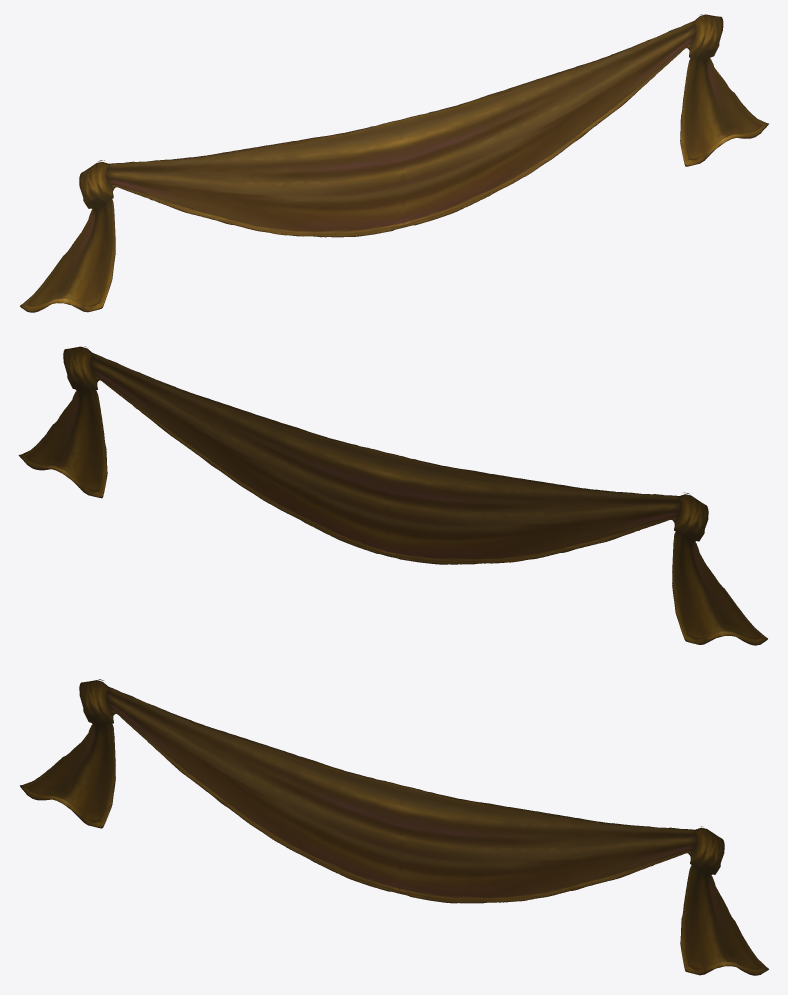
Rendered from fb_suoyt_jz_01_c.FBX.
The picture shows the model from 3 angles, top to bottom: view 1: azimuth 30°, elevation 25°; view 2: azimuth 150°, elevation 25°; view 3: azimuth 330°, elevation 25°; orthographic projection.
Visible parts, largest first — view 1: fb_suoyt_jz_01_c; view 2: fb_suoyt_jz_01_c; view 3: fb_suoyt_jz_01_c.
Part boxes in pixels (x1,y1,x2,y2): fb_suoyt_jz_01_c: (20, 14, 768, 312); fb_suoyt_jz_01_c: (18, 346, 767, 645); fb_suoyt_jz_01_c: (20, 679, 768, 975).
Bounding box in the file's own units: 684 × 128 × 7.09.
